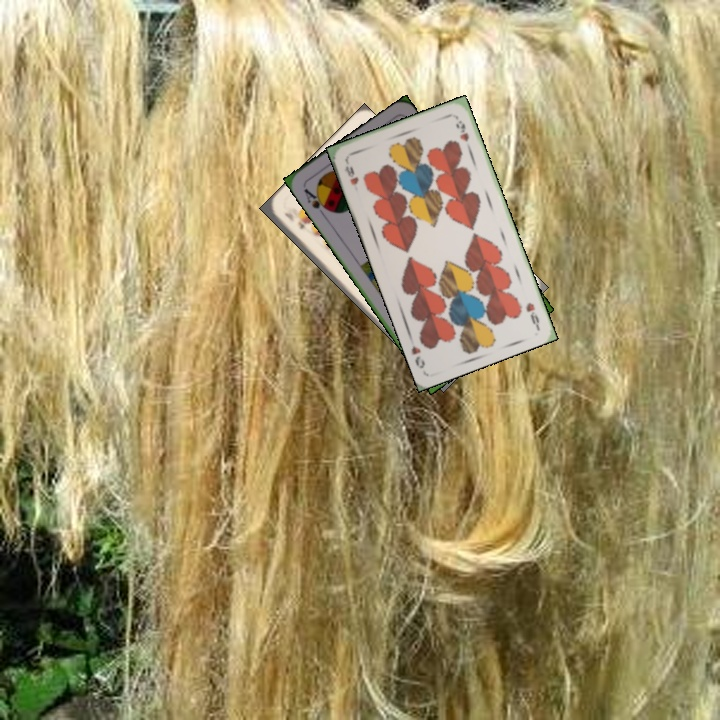E10: (280, 208, 307, 232)
H9: (340, 156, 361, 188), (522, 298, 542, 329)
SA: (299, 184, 333, 219)
